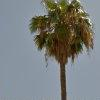Tree: (24, 2, 98, 71)
